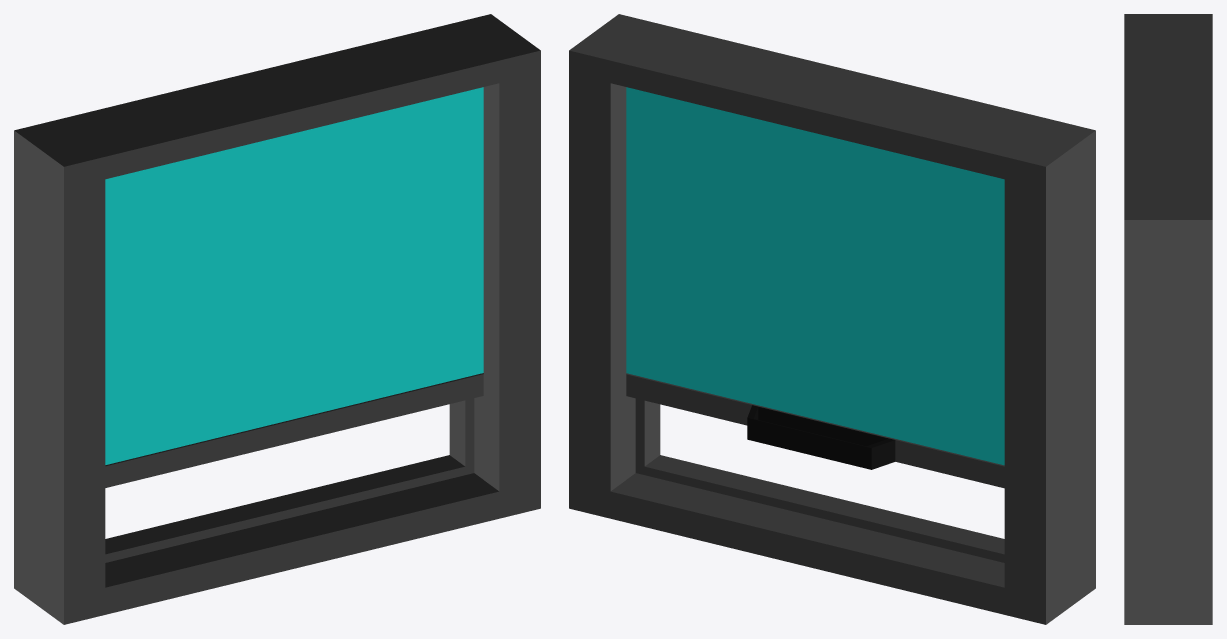
The model's file is Window 15.fbx.
3 renders of one model, left to right at view 1: azimuth 30°, elevation 25°; view 2: azimuth 150°, elevation 25°; view 3: azimuth 270°, elevation 25°, orthographic. The views are drawn at different scales.
Parts seen in each view (by area): view 1: Node 0, Node 1; view 2: Node 0, Node 1; view 3: Node 0.
Boxes of the visible parts, x1,y1,x2,y2 form: Node 0: (14, 14, 540, 624); Node 1: (105, 87, 483, 487); Node 0: (569, 14, 1095, 624); Node 1: (626, 87, 1004, 488); Node 0: (1124, 14, 1212, 624).
Size of the model in its own units: 0.3116 by 1.58 by 1.72.
